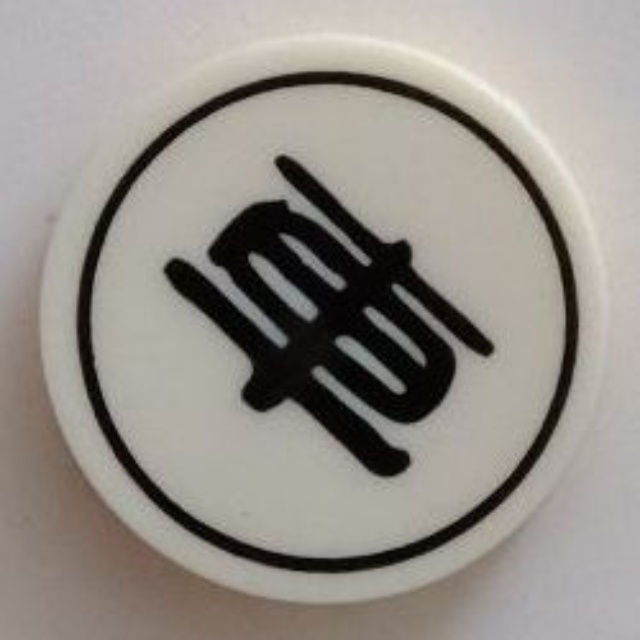black_xe: (29, 23, 618, 613)
